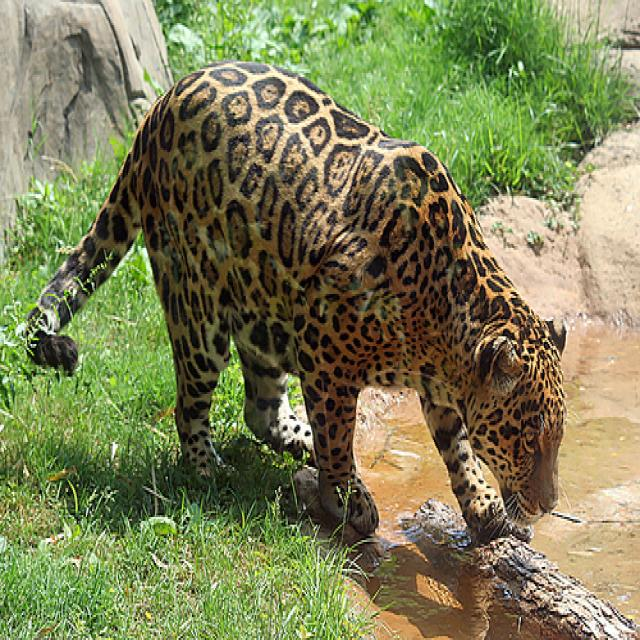Leopard: (27, 60, 563, 538)
